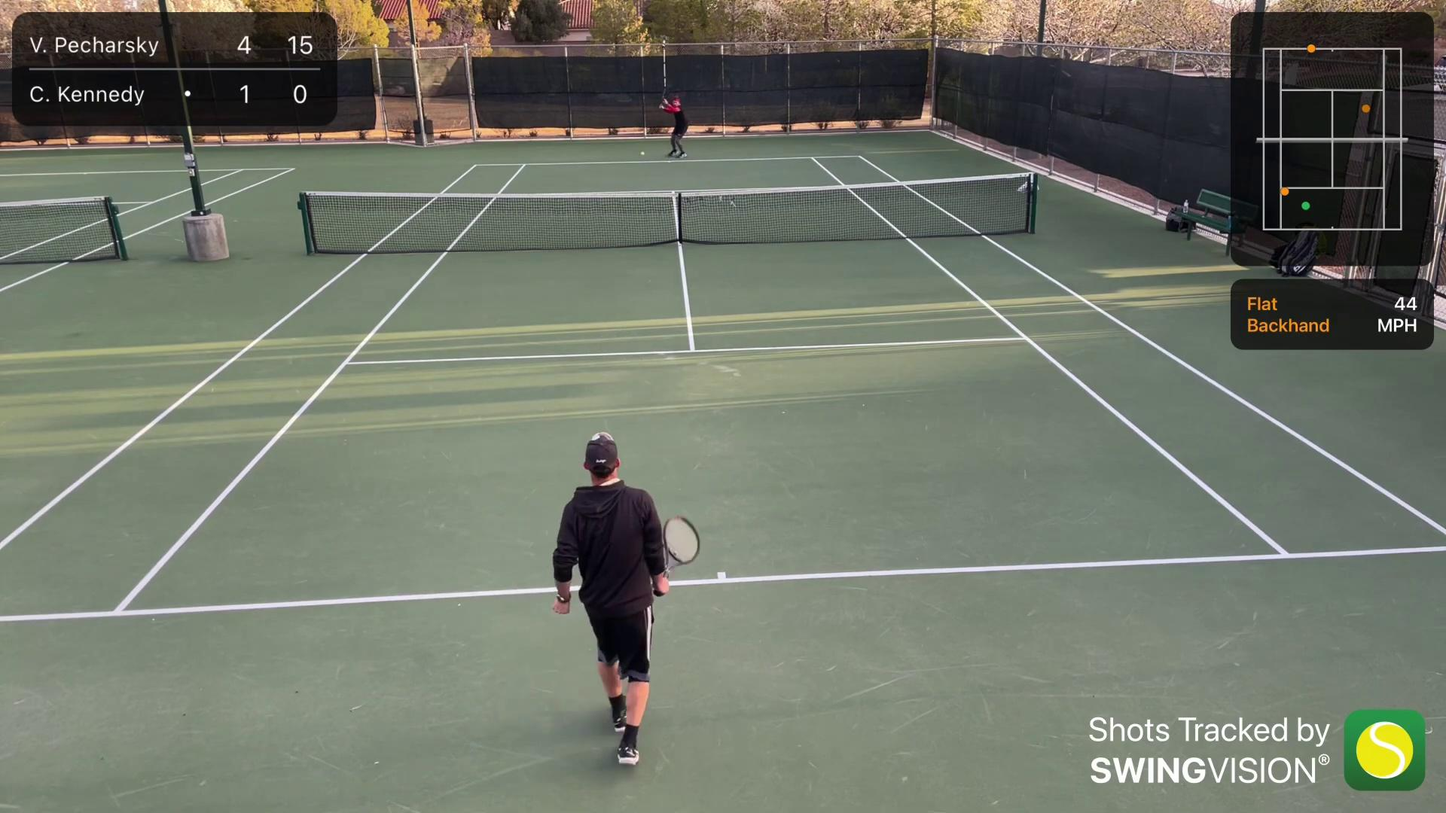ball: (640, 150, 647, 157)
